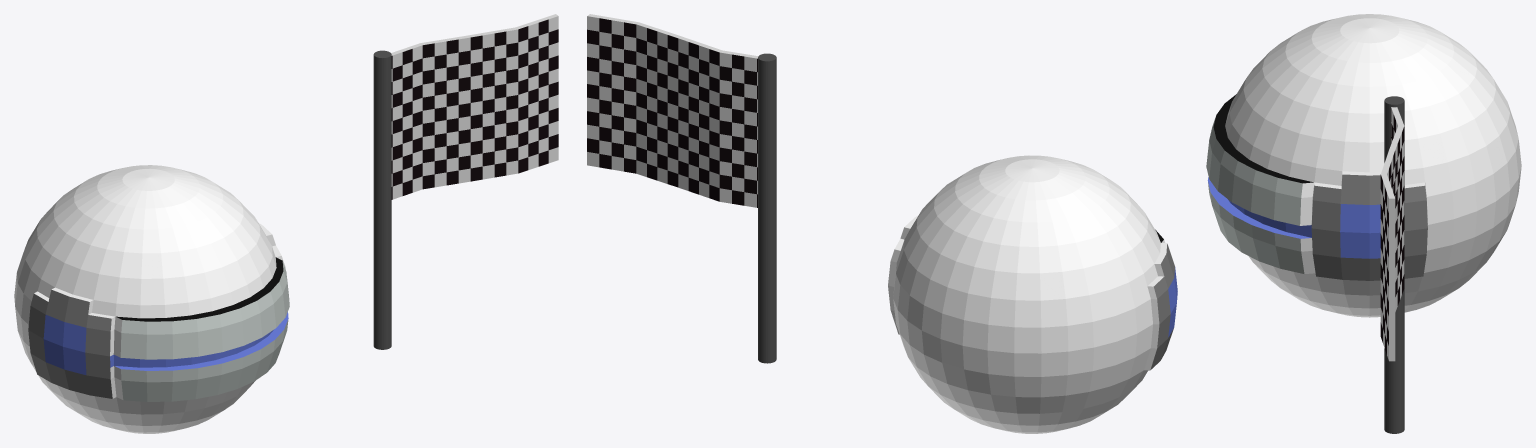
The model's file is MONSTER-05.fbx.
3 views of the same model, side by side, from view 1: azimuth 30°, elevation 25°; view 2: azimuth 150°, elevation 25°; view 3: azimuth 270°, elevation 25° (orthographic). The views are drawn at different scales.
Visible parts, largest first — view 1: Sphere, Cylinder; view 2: Sphere, Cylinder; view 3: Sphere, Cylinder.
Boxes of the visible parts, left/top/right/bottom form: Sphere: left=14, top=165, right=289, bottom=433; Cylinder: left=373, top=14, right=558, bottom=349; Sphere: left=888, top=155, right=1177, bottom=433; Cylinder: left=587, top=14, right=776, bottom=363; Sphere: left=1206, top=14, right=1521, bottom=317; Cylinder: left=1380, top=96, right=1404, bottom=433.
Bounding box in the file's own units: 463 × 245 × 208.
